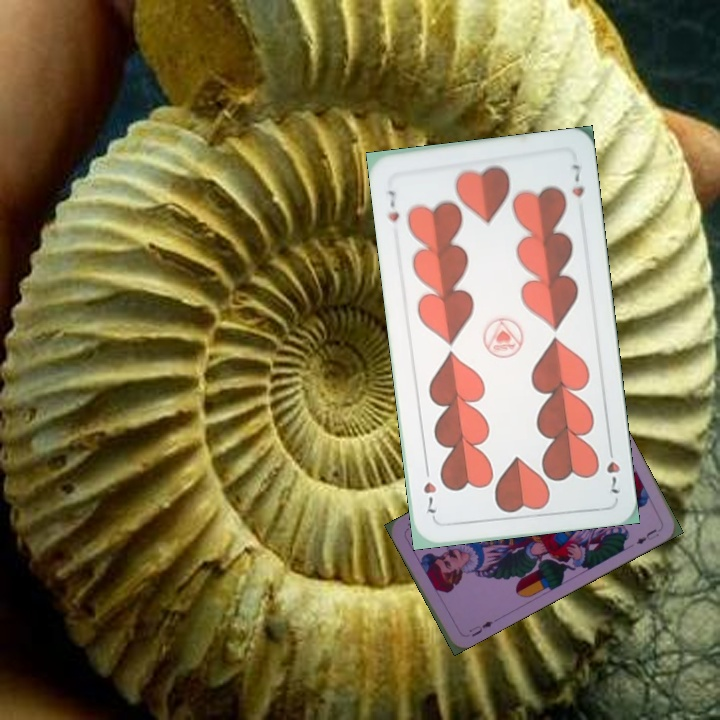EU: (465, 616, 498, 639)
H7: (602, 440, 623, 496), (383, 186, 402, 225)
